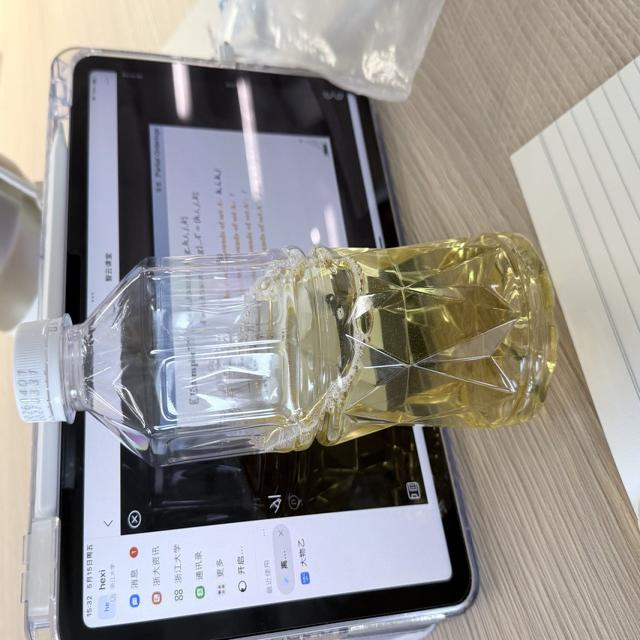medium: (16, 233, 554, 464)
